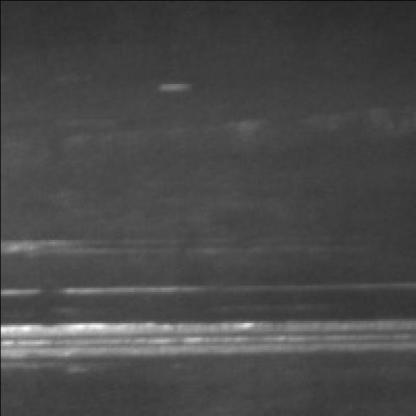scratches: (0, 316, 414, 374), (2, 272, 237, 304)
